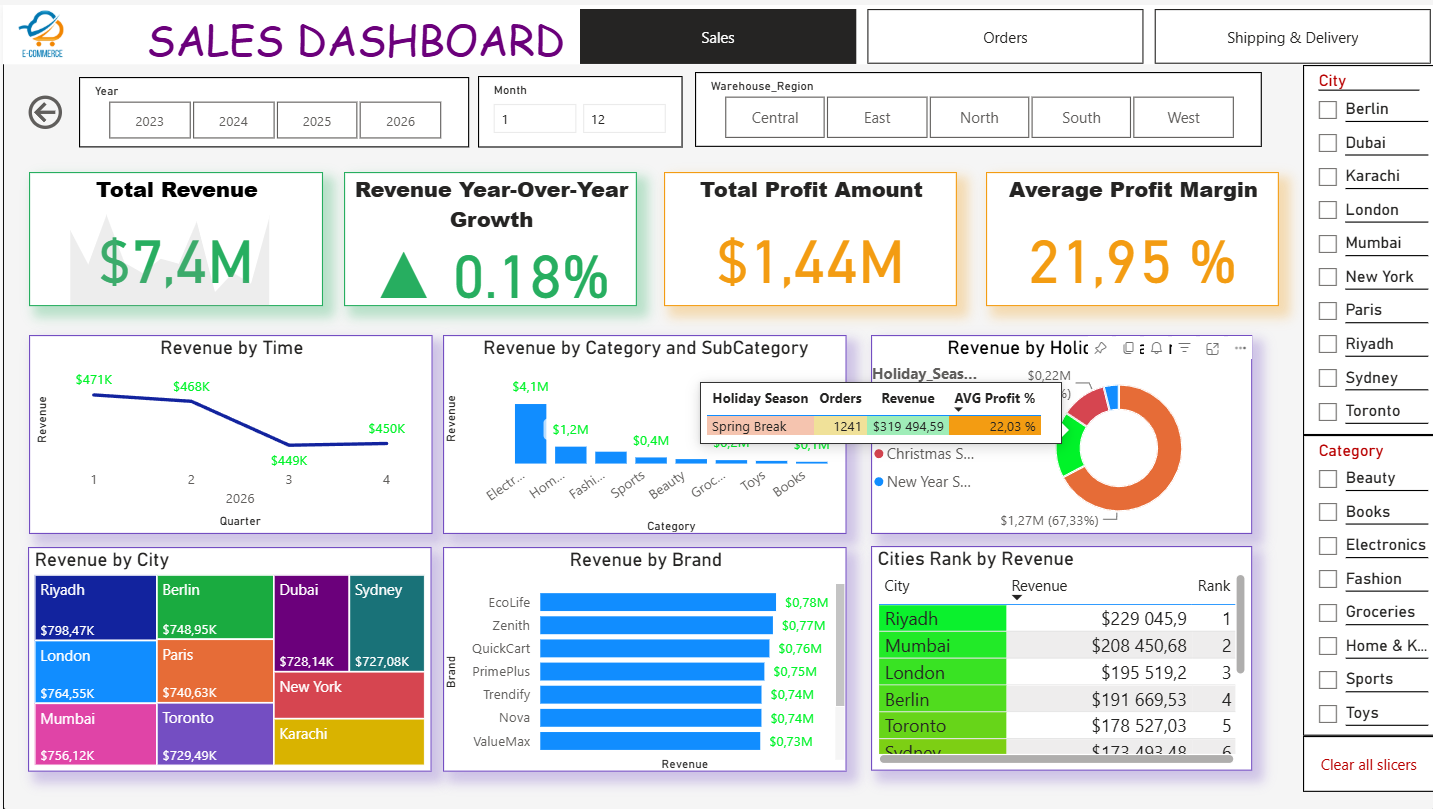

The dashboard page shown, as its layout file describes it:
{"tool":"powerbi","page":{"name":"Sales","canvas":[1280,720],"ordinal":0},"visuals":[{"type":"shape","box":[0,0,1280,53.5],"z":0},{"type":"card","title":"Revenue Year-Over-Year Growth","fields":{"Values":["Measure.YOY%_CA_Display"]},"box":[305.4,149.8,261.6,120],"z":1000},{"type":"card","title":"Total Revenue","fields":{"Values":["Measure.CA"]},"box":[23.3,149.8,262.6,120],"z":2000},{"type":"areaChart","fields":{"Category":["Dim_Date.Month"],"Y":["Measure.CA"]},"box":[34,158.5,262.6,110.9],"z":3000},{"type":"slicer","fields":{"Values":["Dim_Date.Year"]},"box":[68.1,64.2,349.2,63.2],"z":4000},{"type":"slicer","fields":{"Values":["Dim_Date.Month"]},"box":[425,63.2,182.9,64.2],"z":5000},{"type":"slicer","fields":{"Values":["Dim_Geography.City"]},"box":[1162.3,53.5,117.7,330.7],"z":6000},{"type":"slicer","fields":{"Values":["Dim_Category.Category"]},"box":[1162.3,384.2,117.7,269.4],"z":7000},{"type":"actionButton","box":[1162.3,653.6,117.7,49.6],"z":8000},{"type":"card","title":"Average Profit Margin","fields":{"Values":["Measure.AVG_Profit_Marghin%"]},"box":[879.3,149.8,261.6,119.6],"z":9000},{"type":"card","title":"Total Profit Amount","fields":{"Values":["Sum(Fact_Oders.Profit_Amount)"]},"box":[591.4,149.8,261.6,119.6],"z":10000},{"type":"image","box":[0,0,68.1,53.5],"z":11000},{"type":"textbox","box":[123.5,0,390,96.3],"z":12000},{"type":"donutChart","title":"Revenue by Holiday Season","fields":{"Category":["Dim_Date.Holiday_Season"],"Y":["Measure.CA"]},"box":[776.2,294.7,341.4,178],"z":13000},{"type":"lineChart","title":"Revenue by Time","fields":{"Y":["Measure.CA"],"Category":["Dim_Date.Year Hierarchy.Year","Dim_Date.Year Hierarchy.Quarter","Dim_Date.Year Hierarchy.Month"]},"box":[23.3,294.7,360.9,178],"z":14000},{"type":"treemap","title":"Revenue by City","fields":{"Group":["Dim_Geography.City"],"Values":["Measure.CA"]},"box":[22.4,484.4,360.9,201.3],"z":15000},{"type":"lineStackedColumnComboChart","title":"Revenue by Category and SubCategory","fields":{"Category":["Dim_Category.Category"],"Y":["Measure.CA"]},"box":[393.9,294.7,360.9,178],"z":16000},{"type":"barChart","title":"Revenue by Brand","fields":{"Category":["Dim_Brand.Brand"],"Y":["Measure.CA"]},"box":[393.9,484.4,360.9,201.3],"z":17000},{"type":"slicer","fields":{"Values":["Fact_Oders.Warehouse_Region"]},"box":[618.6,60.3,506.7,67.1],"z":18000},{"type":"tableEx","title":"Cities Rank by Revenue","fields":{"Values":["Dim_Geography.City","Measure.CA","Measure.Rank_City_CA"]},"box":[776,484,341,201],"z":19000},{"type":"actionButton","box":[17.5,75.9,41.8,39.9],"z":20000},{"type":"pageNavigator","box":[516.5,3.9,763.5,49.6],"z":21000}]}

Visuals, with their boxes in screenshot pixels (x1, y1, x2, y2), scaled from the page's 1280x720 canvas onto the 1433x809 screenshot:
shape: (x1=0, y1=0, x2=1432, y2=60)
"Revenue Year-Over-Year Growth" card: (x1=342, y1=168, x2=635, y2=303)
"Total Revenue" card: (x1=26, y1=168, x2=320, y2=303)
areaChart - Dim_Date.Month x Measure.CA: (x1=38, y1=178, x2=332, y2=303)
slicer - Dim_Date.Year: (x1=76, y1=72, x2=467, y2=143)
slicer - Dim_Date.Month: (x1=476, y1=71, x2=681, y2=143)
slicer - Dim_Geography.City: (x1=1301, y1=60, x2=1432, y2=432)
slicer - Dim_Category.Category: (x1=1301, y1=432, x2=1432, y2=734)
actionButton: (x1=1301, y1=734, x2=1432, y2=790)
"Average Profit Margin" card: (x1=984, y1=168, x2=1277, y2=303)
"Total Profit Amount" card: (x1=662, y1=168, x2=955, y2=303)
image: (x1=0, y1=0, x2=76, y2=60)
textbox: (x1=138, y1=0, x2=575, y2=108)
"Revenue by Holiday Season" donutChart: (x1=869, y1=331, x2=1251, y2=531)
"Revenue by Time" lineChart: (x1=26, y1=331, x2=430, y2=531)
"Revenue by City" treemap: (x1=25, y1=544, x2=429, y2=770)
"Revenue by Category and SubCategory" lineStackedColumnComboChart: (x1=441, y1=331, x2=845, y2=531)
"Revenue by Brand" barChart: (x1=441, y1=544, x2=845, y2=770)
slicer - Fact_Oders.Warehouse_Region: (x1=693, y1=68, x2=1260, y2=143)
"Cities Rank by Revenue" tableEx: (x1=869, y1=544, x2=1251, y2=770)
actionButton: (x1=20, y1=85, x2=66, y2=130)
pageNavigator: (x1=578, y1=4, x2=1432, y2=60)
